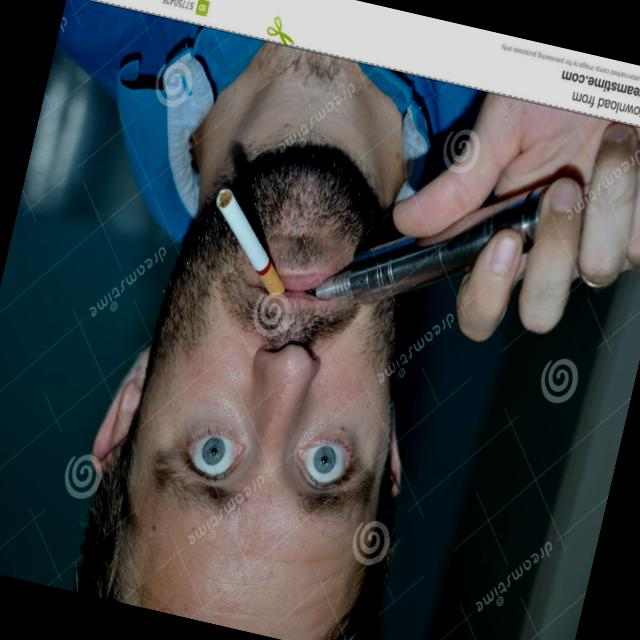cigarette: (196, 182, 305, 300)
